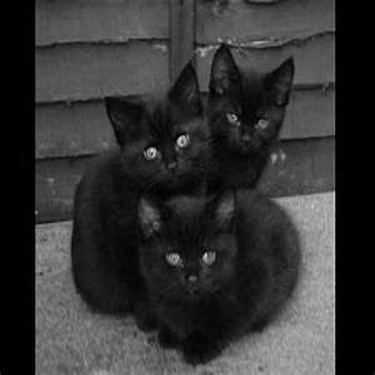cat: (70, 63, 212, 314), (136, 190, 304, 368), (212, 37, 299, 190)
